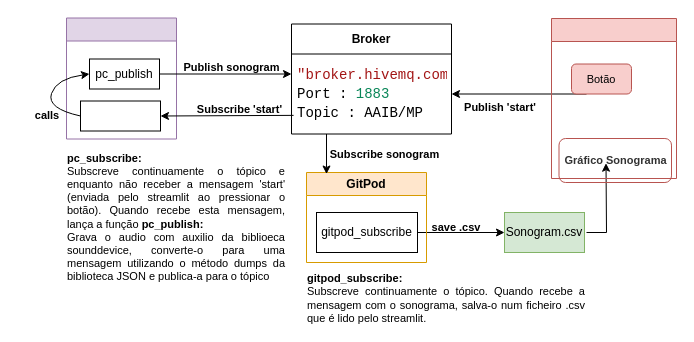
The diagram is 694 pixels wide and 342 high, and some of its shapes have lost their labels. The shapes that lost their labels are listed below. From the top down, each one's box as (x1, y1, x2, y2) in pixels, then its label:
(66, 17, 176, 139): Local Host
(550, 18, 676, 178): Streamlit App
(80, 100, 160, 131): pc_subscribe
